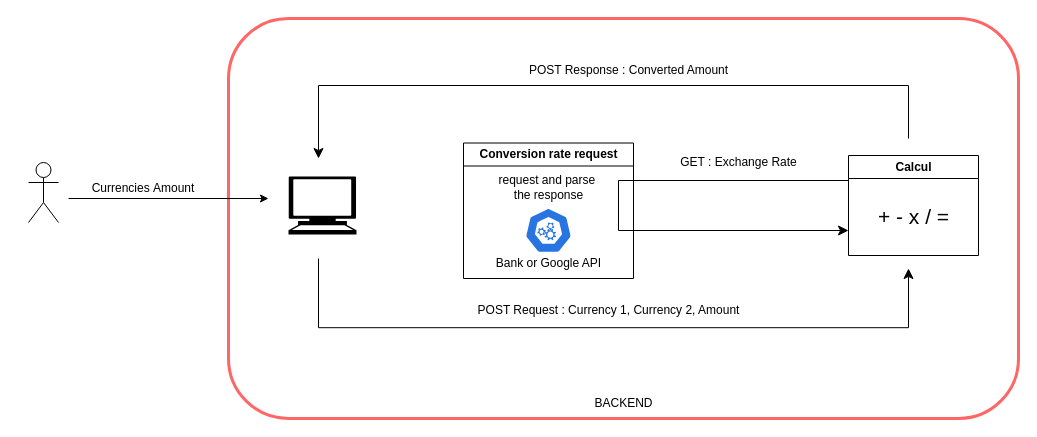
Some shapes in this 1037 by 437 pixel diagram are drawn without their labels. Here are the shapes that lost their labels. From the top down, the centre of each, then its label:
[43,192]: Customer
[322,205]: Currency Conversion Client
